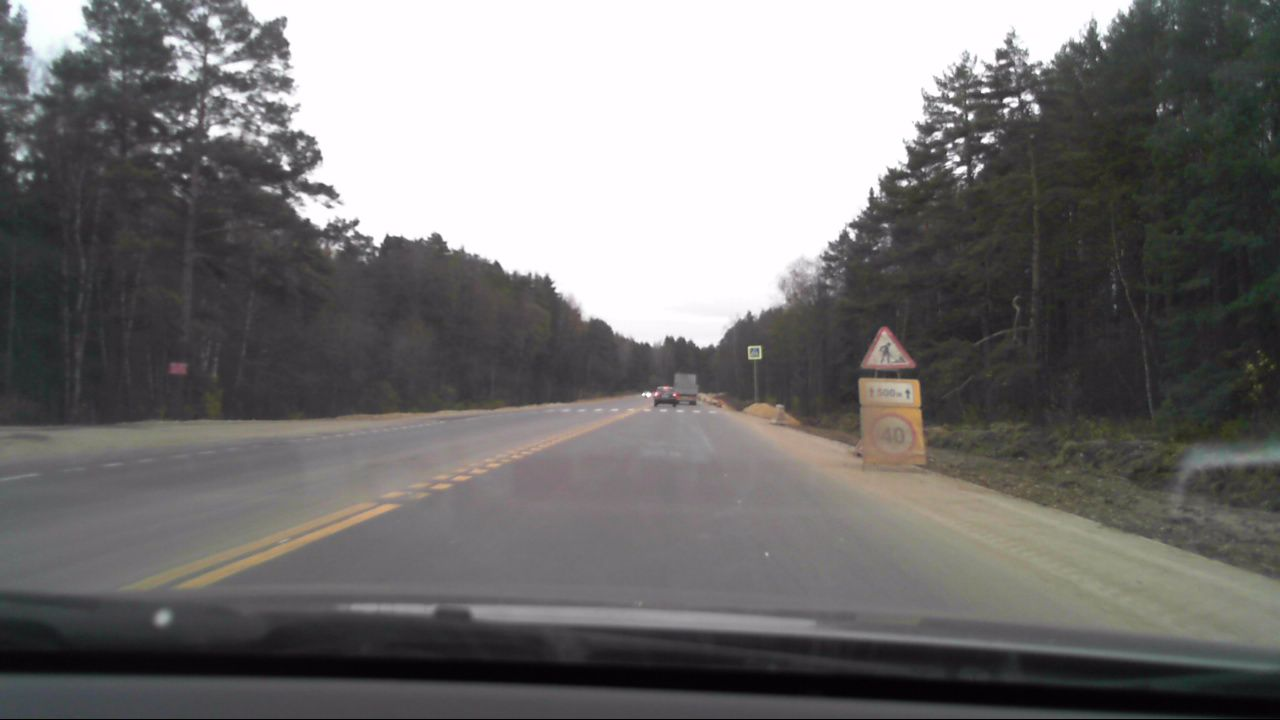speed_warning_40: (868, 414, 910, 455)
